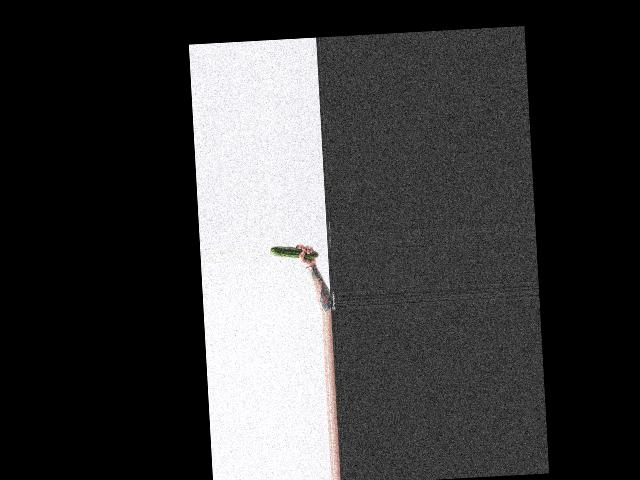cucumber: (269, 243, 318, 260)
